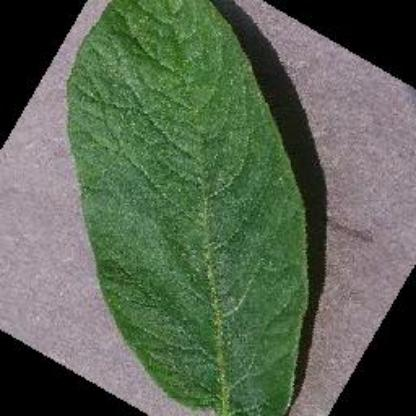Healthy-plant: (67, 0, 312, 416)
